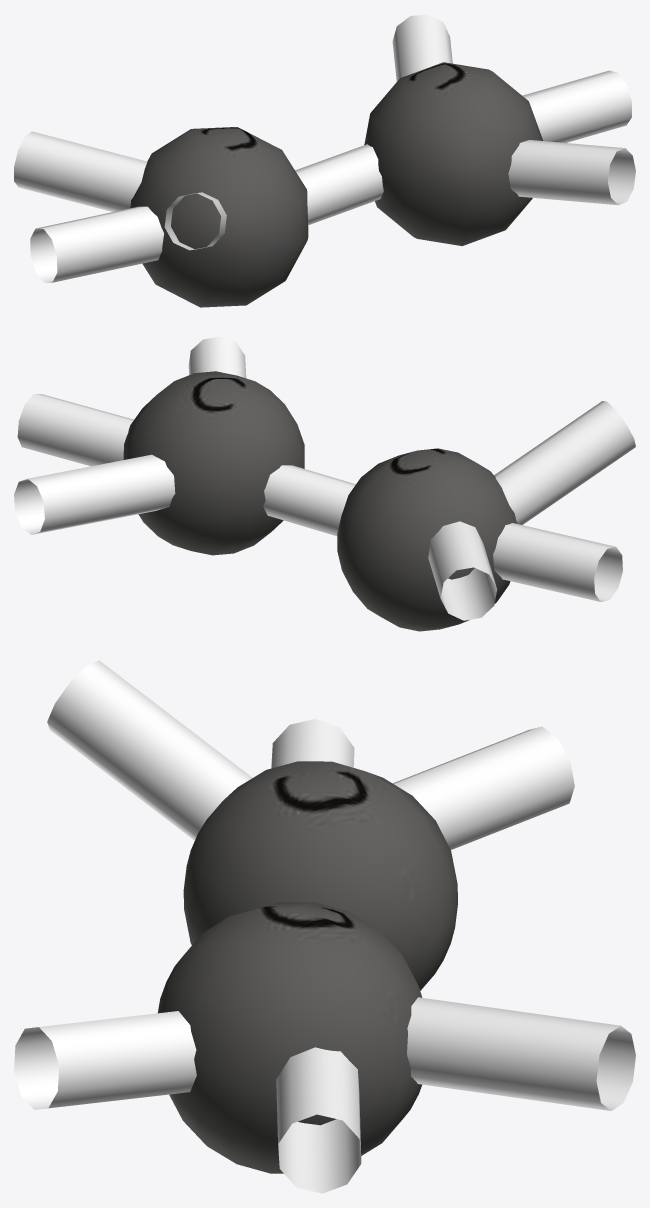
Rendered from Main C.fbx.
3 renders of one model, top to bottom at view 1: azimuth 30°, elevation 25°; view 2: azimuth 150°, elevation 25°; view 3: azimuth 270°, elevation 25°, orthographic. The views are drawn at different scales.
Visible parts, largest first — view 1: Main; view 2: Main; view 3: Main.
Boxes of the visible parts, x1=… form: Main: x1=14, y1=14, x2=635, y2=307; Main: x1=14, y1=336, x2=635, y2=631; Main: x1=14, y1=660, x2=635, y2=1193.
Size of the model in its own units: 596 by 185 by 372.
Materials: 2 (1 with a texture image).
